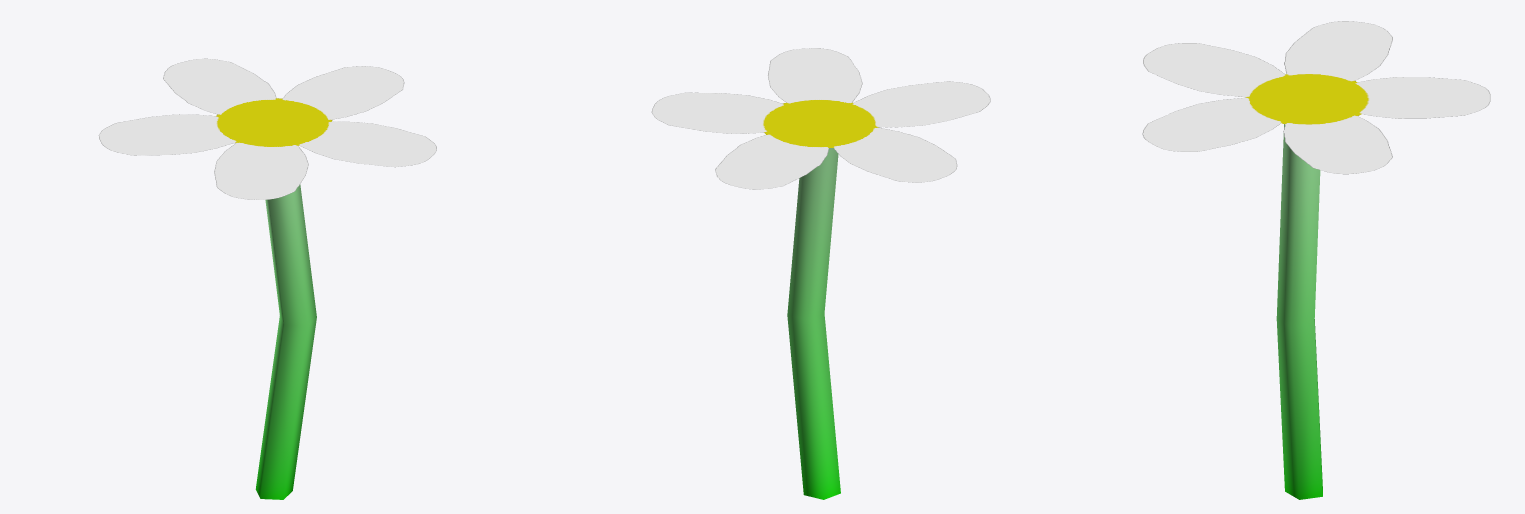
The model's file is flower2.glb.
The picture shows the model from 3 angles, left to right: view 1: azimuth 30°, elevation 25°; view 2: azimuth 150°, elevation 25°; view 3: azimuth 270°, elevation 25°; orthographic projection. The views are drawn at different scales.
Parts seen in each view (by area): view 1: flower2; view 2: flower2; view 3: flower2.
Boxes of the visible parts, left/top/right/bottom form: flower2: left=98, top=58, right=436, bottom=499; flower2: left=651, top=48, right=990, bottom=499; flower2: left=1142, top=21, right=1490, bottom=499.
Bounding box in the file's own units: 0.1926 × 0.2067 × 0.1926.
Materials: 1 (1 with a texture image).
